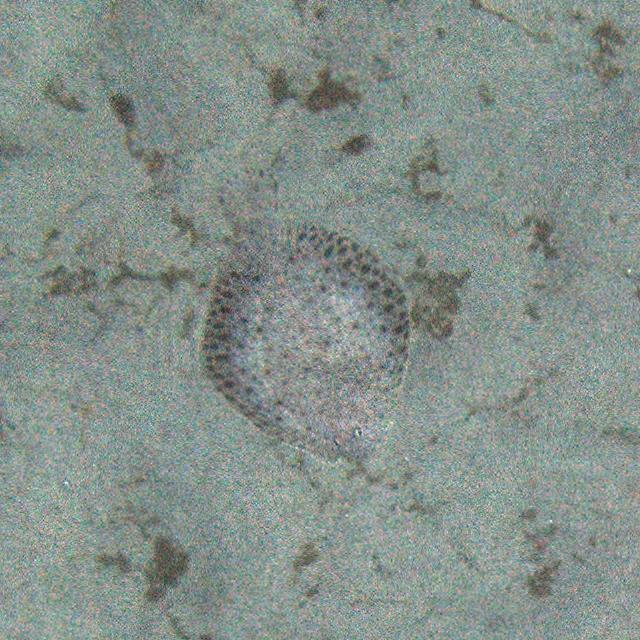flatfish: (198, 174, 416, 474)
